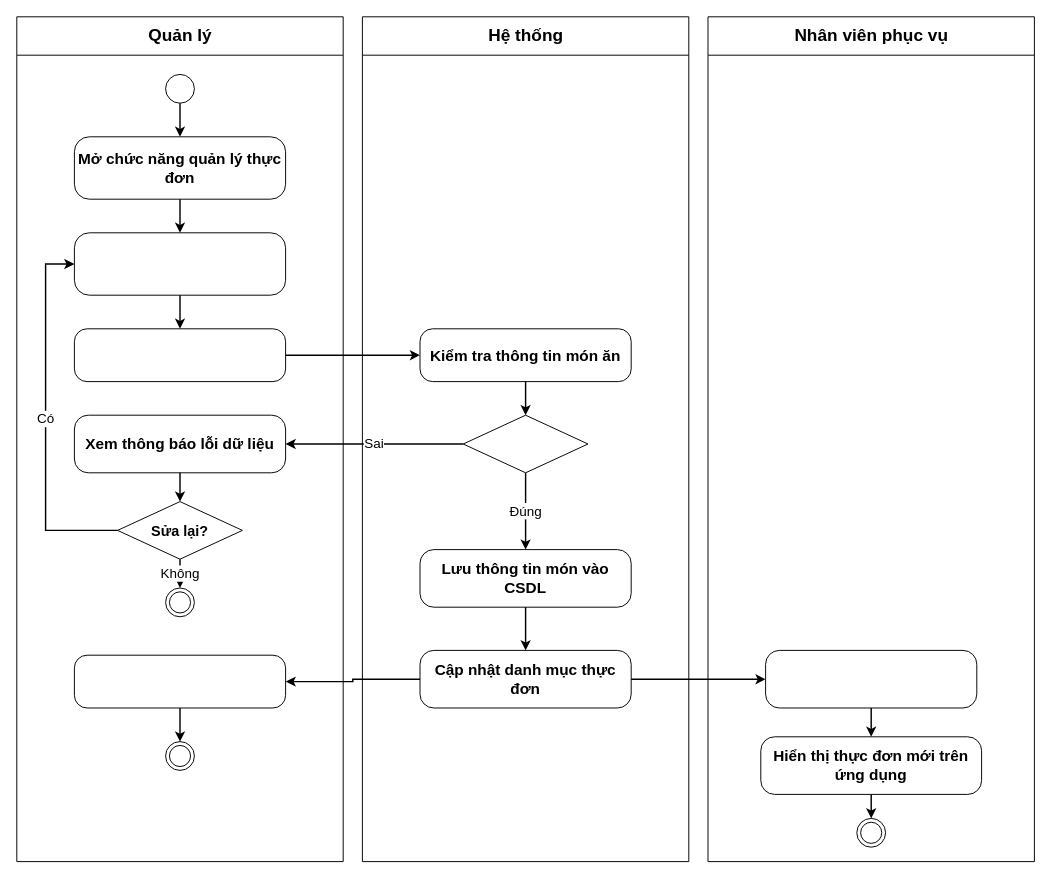
Image size: 1051x878. Some labels were removed from this diagram. The shapes that lost their labels are listed below. From the top down, each one's centre as x and y in pixels, then its label:
At point 179,263: "Nhập tên món, phân loại, giá & ảnh".
At point 179,355: "Bấm lưu món ăn".
At point 525,443: "Hợp lệ?".
At point 179,681: "Nhận thông báo lưu thành công".
At point 871,678: "Tải lại danh mục thực đơn".
